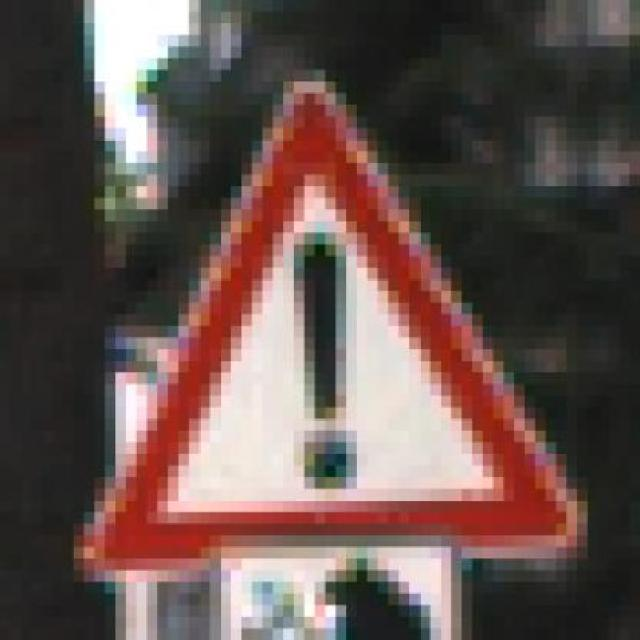Attention Please-: (63, 70, 588, 582)
